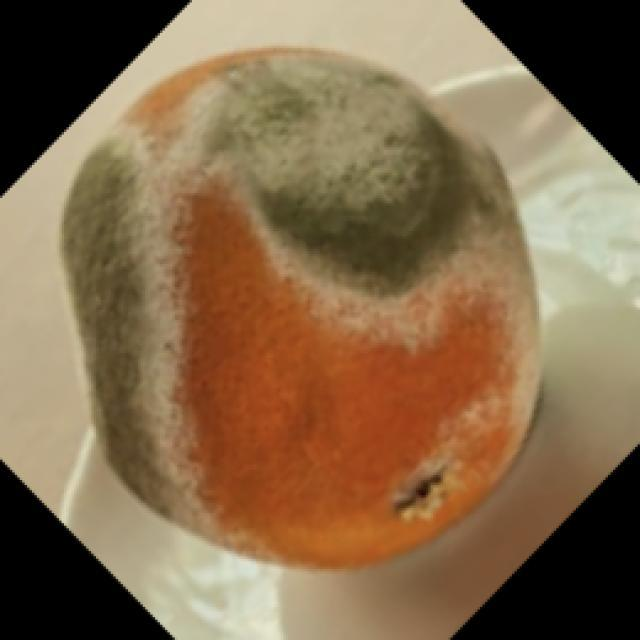sangat-busuk: (64, 49, 538, 567)
